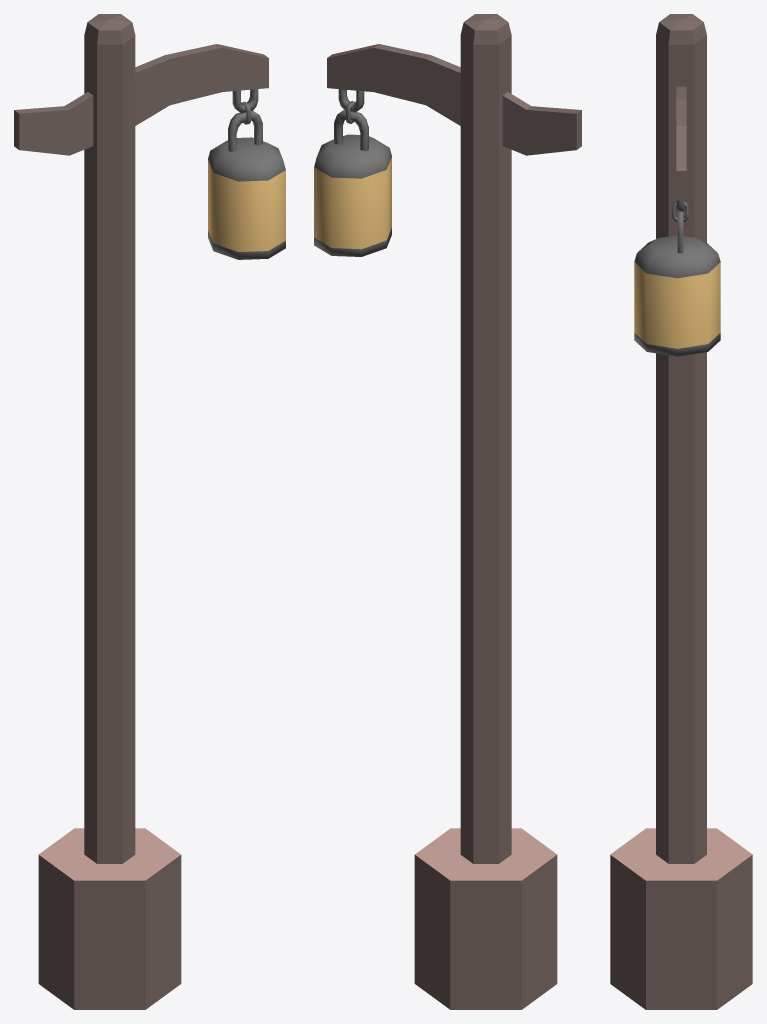
Rendered from lamp.fbx.
The picture shows the model from 3 angles, left to right: view 1: azimuth 30°, elevation 25°; view 2: azimuth 150°, elevation 25°; view 3: azimuth 270°, elevation 25°; orthographic projection.
Parts seen in each view (by area): view 1: Props_Lamp; view 2: Props_Lamp; view 3: Props_Lamp.
Boxes of the visible parts, x1,y1,x2,y2 form: Props_Lamp: [14, 14, 285, 1009]; Props_Lamp: [314, 14, 581, 1009]; Props_Lamp: [610, 14, 752, 1009].
Size of the model in its own units: 112 by 395 by 52.98.
